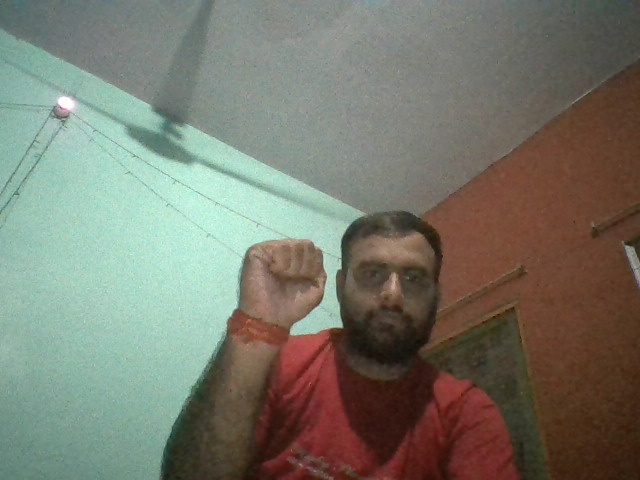goodbye: (239, 238, 327, 321)
